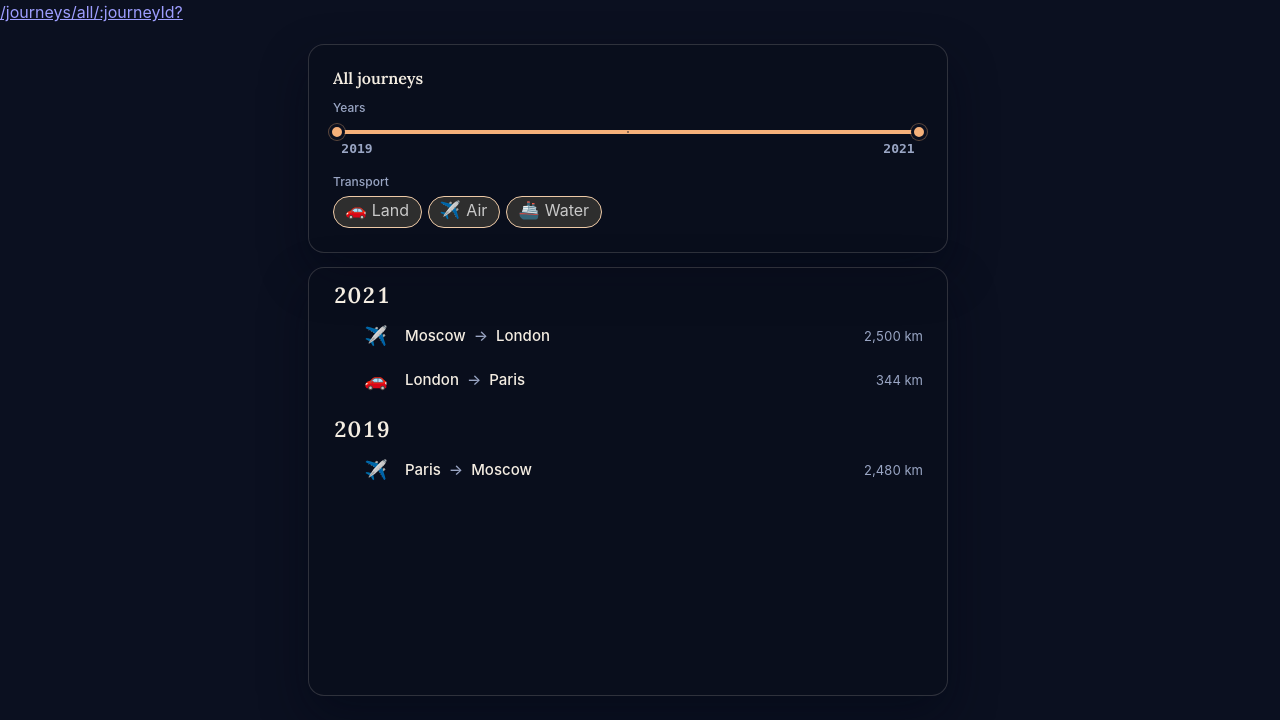
Test case: AllJourneysView — удаление из карточки поездки › удаление не прошло — сообщение в диалоге, карточка остаётся
The image size is (1280, 720).
Click the link named "Moscow to London" at coordinates (435, 336), box [365, 325, 923, 347]
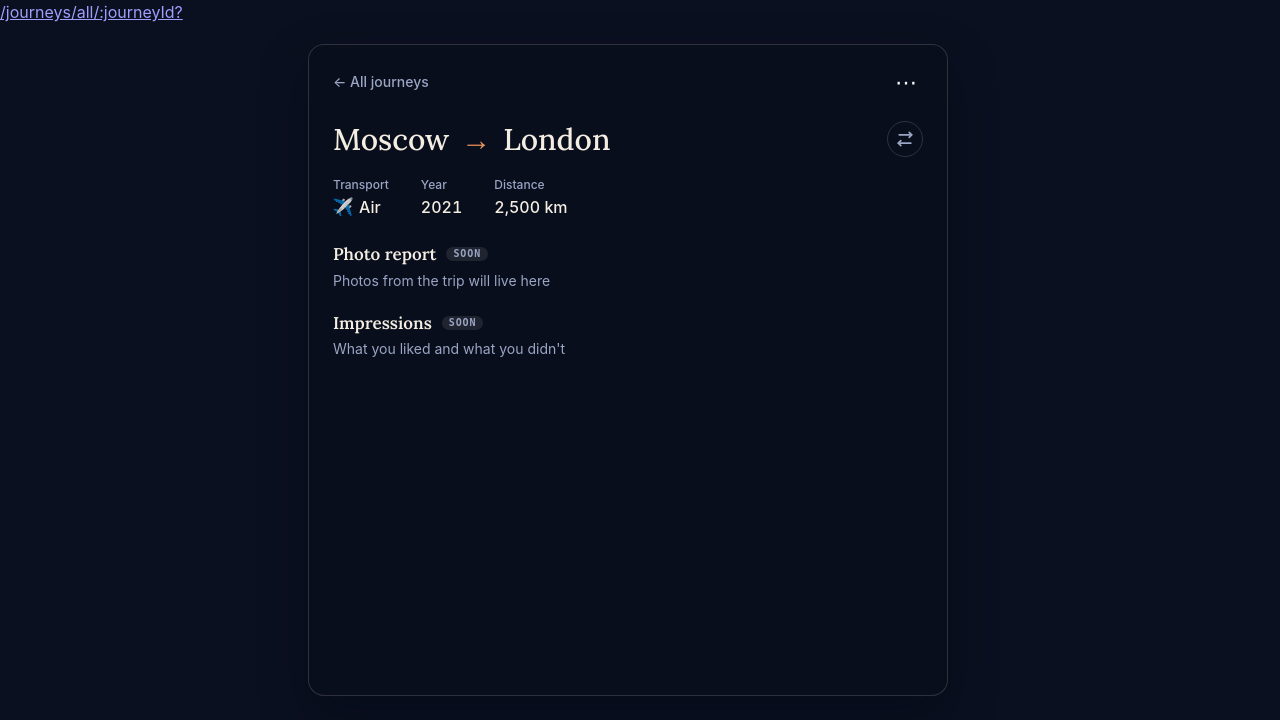
Expected: the heading named "Moscow to London" is shown, [327, 119, 616, 175]
Click the button named "More actions" at coordinates (906, 82), box [889, 65, 923, 99]
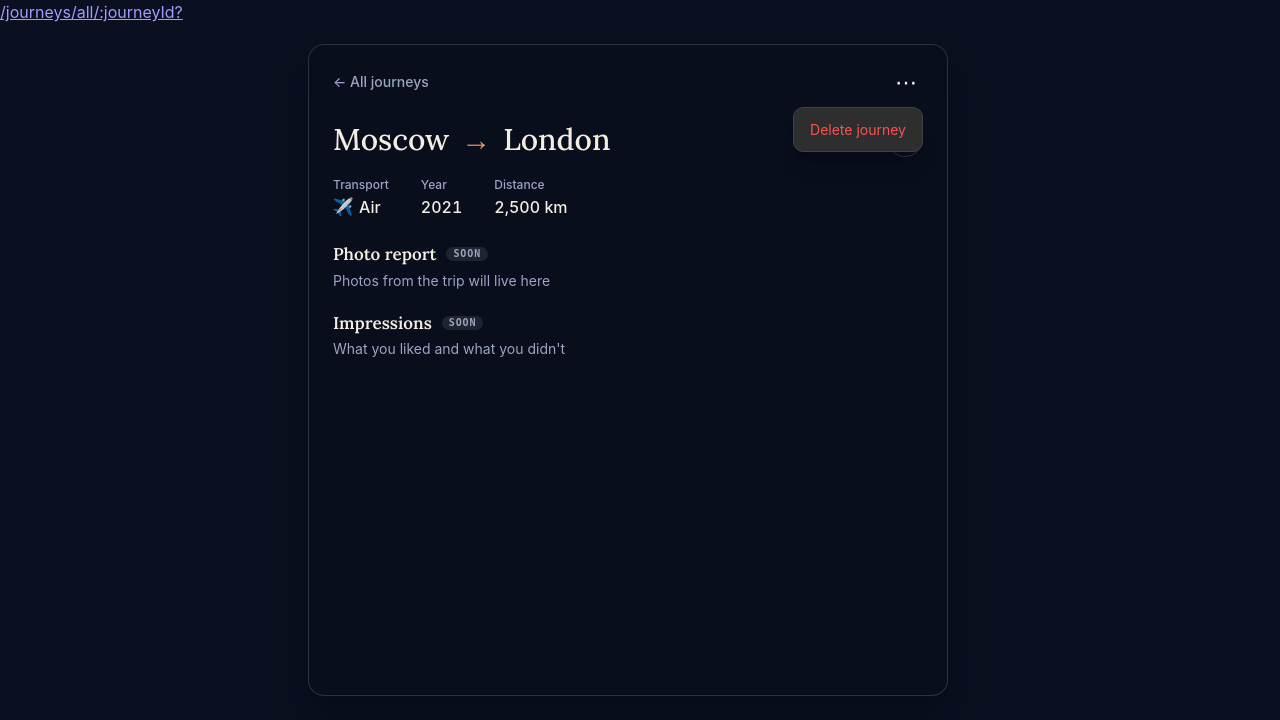
Click the menu item "Delete journey" at coordinates (858, 130), box [798, 112, 918, 147]
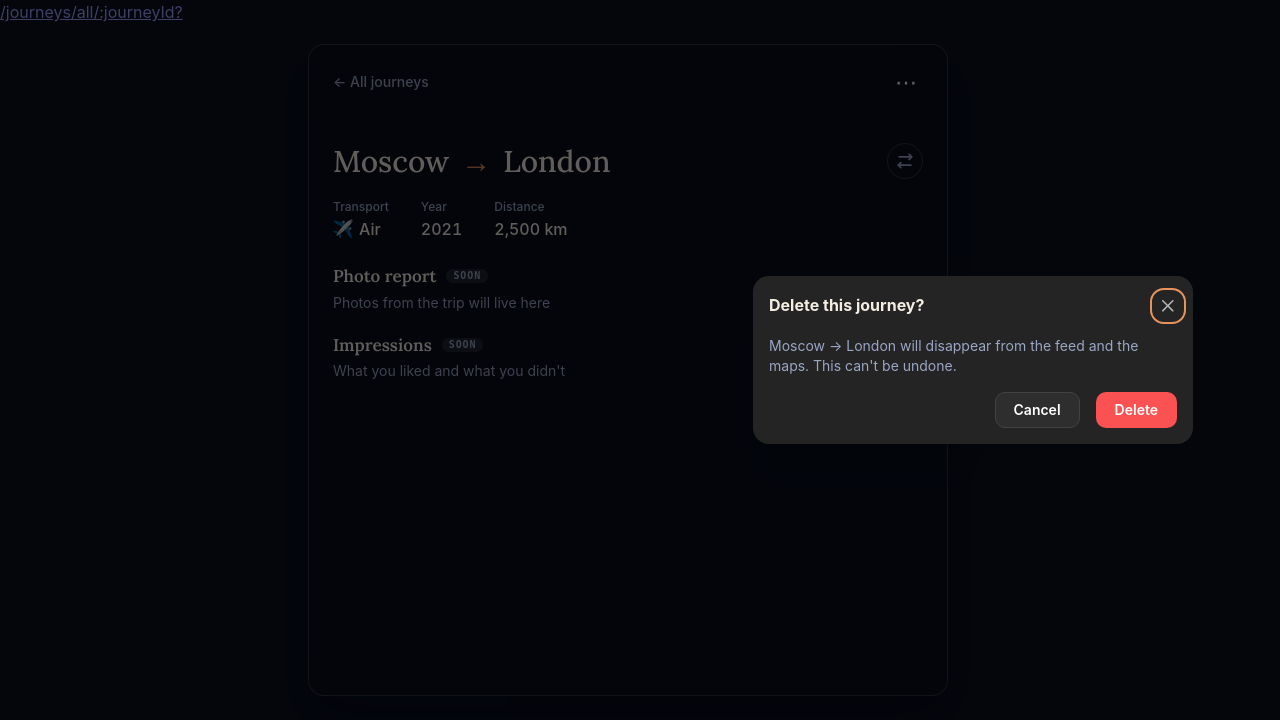
Click the button "Delete" at coordinates (1136, 410), box [1096, 392, 1177, 428]
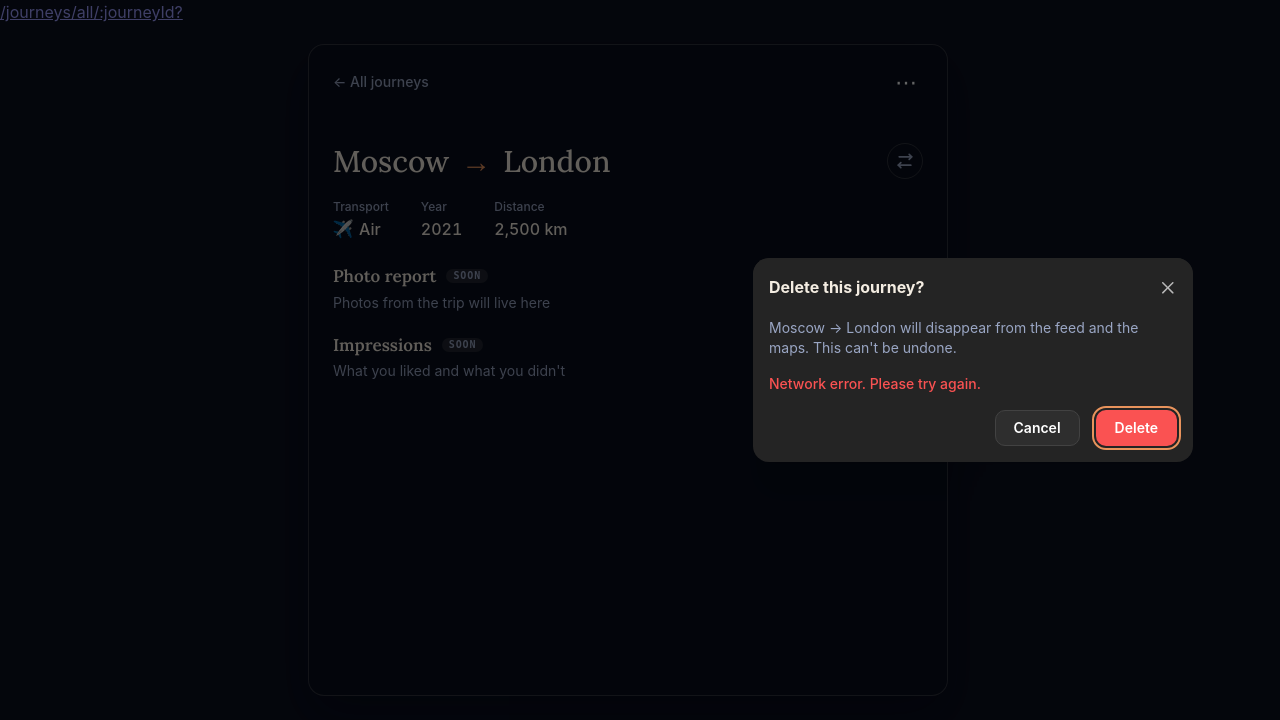
Expected: the heading named "Moscow to London" is shown, [327, 141, 616, 197]
Expected: the text "Network error. Please try again." is shown, [769, 375, 981, 392]
